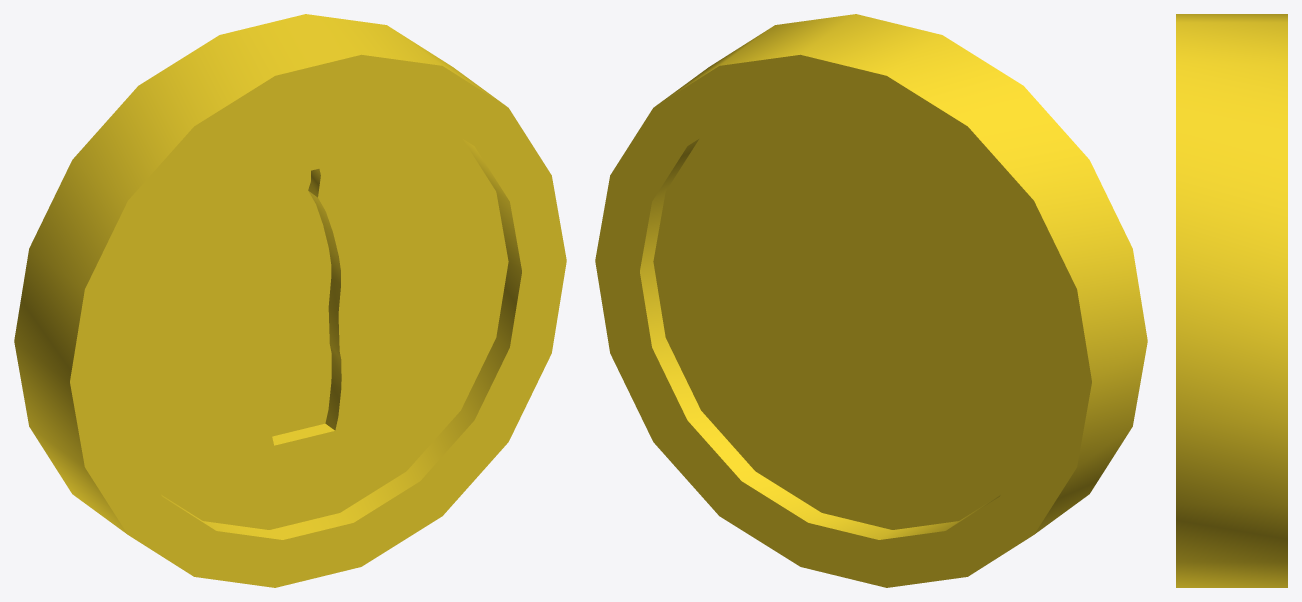
Rendered from gold.fbx.
3 views of the same model, side by side, from view 1: azimuth 30°, elevation 25°; view 2: azimuth 150°, elevation 25°; view 3: azimuth 270°, elevation 25° (orthographic).
Parts seen in each view (by area): view 1: Cylinder001; view 2: Cylinder001; view 3: Cylinder001.
Part boxes in pixels (left/top/right/bottom): Cylinder001: left=14, top=14, right=566, bottom=587; Cylinder001: left=595, top=14, right=1147, bottom=587; Cylinder001: left=1176, top=14, right=1287, bottom=587.
Size of the model in its own units: 7.72 by 7.61 by 1.5.
